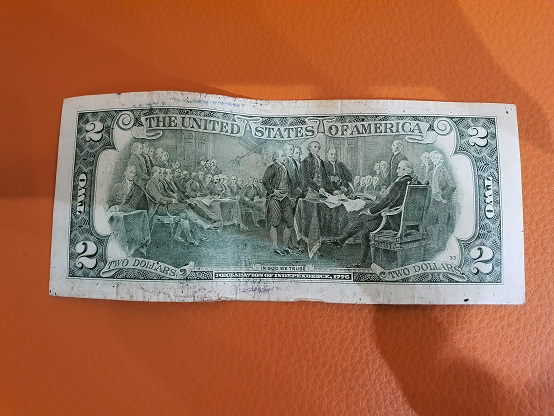2dollar: (46, 94, 527, 306)
